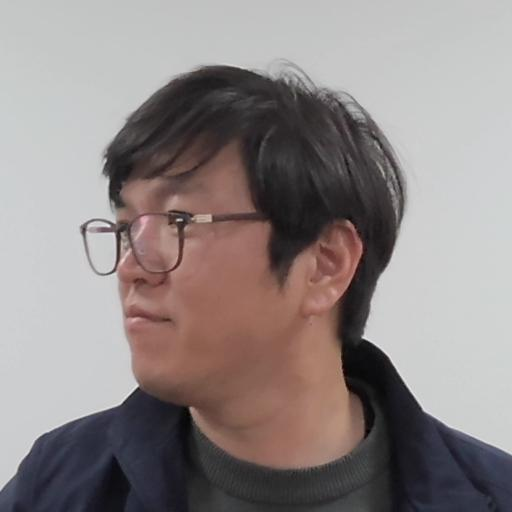no_glasses: (82, 57, 409, 372)
